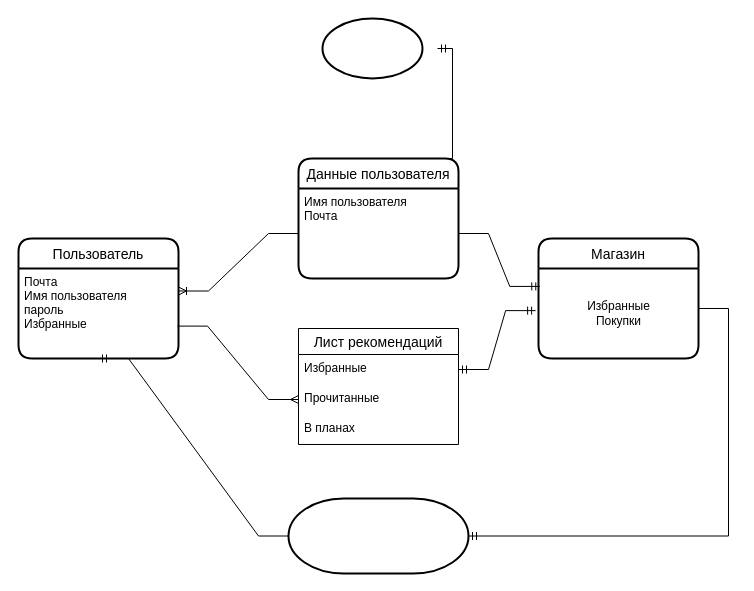
Some shapes in this 754 by 591 pixel diagram are drawn without their labels. The centre of each missing label's shape, as x and y in pixels:
Другие сайты: the point at 372,48
Реклама: the point at 378,535
